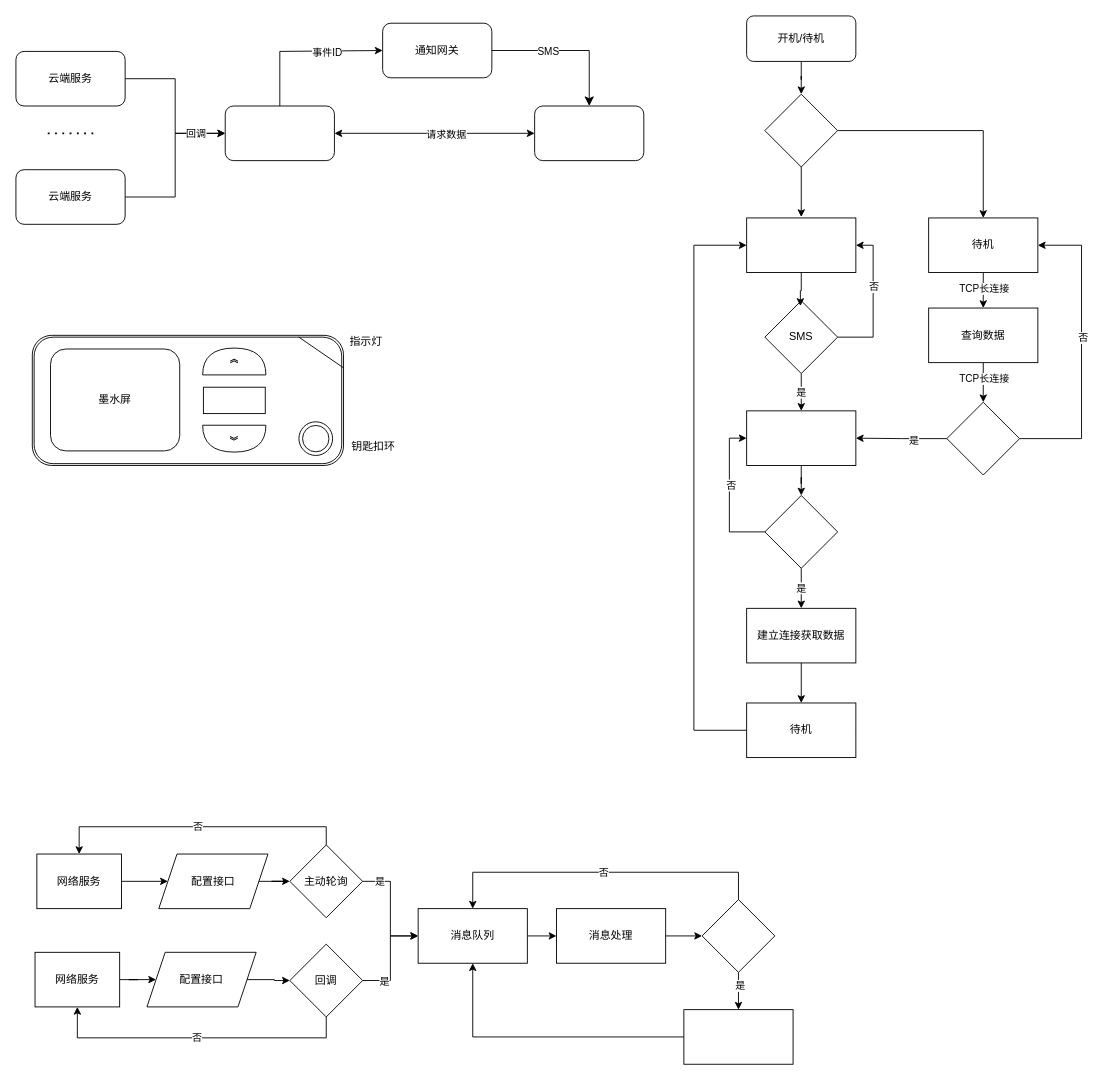
This 1105x1080 diagram has some shape labels left out. Each missing label, with the box of its shape:
OK: (202, 386, 265, 414)
休眠: (746, 217, 856, 273)
发送通知: (701, 899, 775, 972)
接入电源: (764, 93, 838, 167)
数据获取监听: (683, 1009, 793, 1064)
消息服务模块: (224, 105, 334, 161)
用户反馈: (764, 495, 838, 568)
终端: (534, 105, 644, 161)
获得数据: (946, 401, 1020, 475)
设备提示通知: (746, 410, 856, 465)
